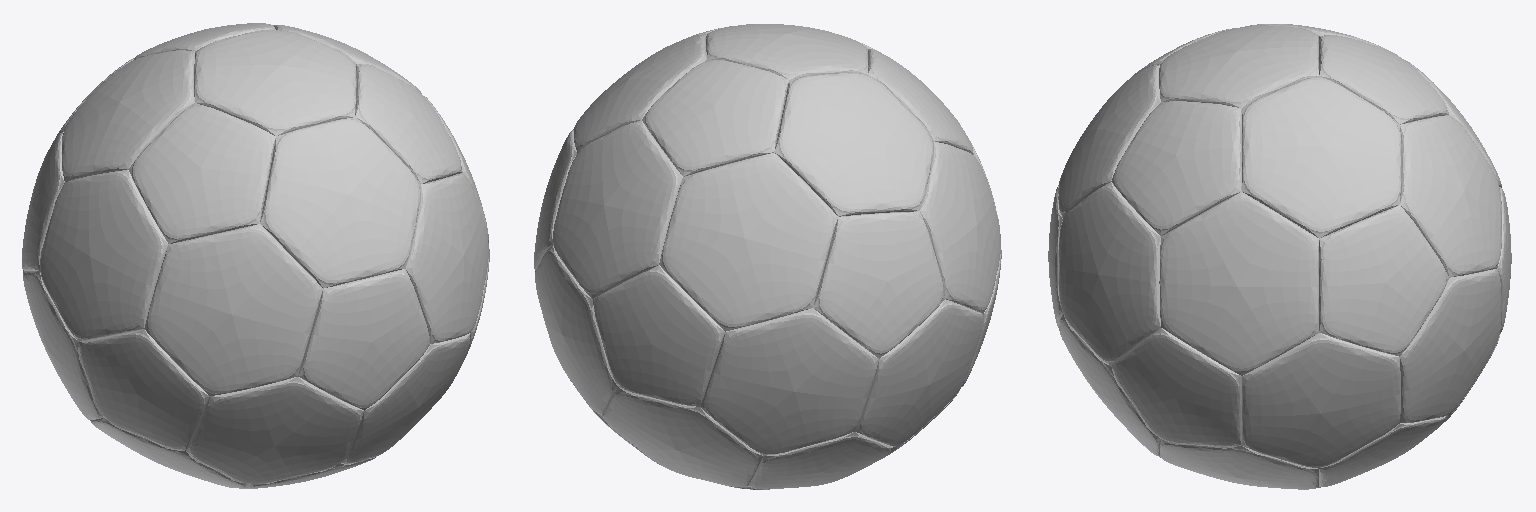
File: ball.obj
3 renders of one model, left to right at view 1: azimuth 30°, elevation 25°; view 2: azimuth 150°, elevation 25°; view 3: azimuth 270°, elevation 25°, orthographic.
Visible parts, largest first — view 1: Platonic; view 2: Platonic; view 3: Platonic.
Part boxes in pixels (left/top/right/bottom): Platonic: left=22, top=23, right=489, bottom=488; Platonic: left=534, top=24, right=1001, bottom=489; Platonic: left=1048, top=24, right=1511, bottom=489.
Bounding box in the file's own units: 1.29 × 1.28 × 1.28.